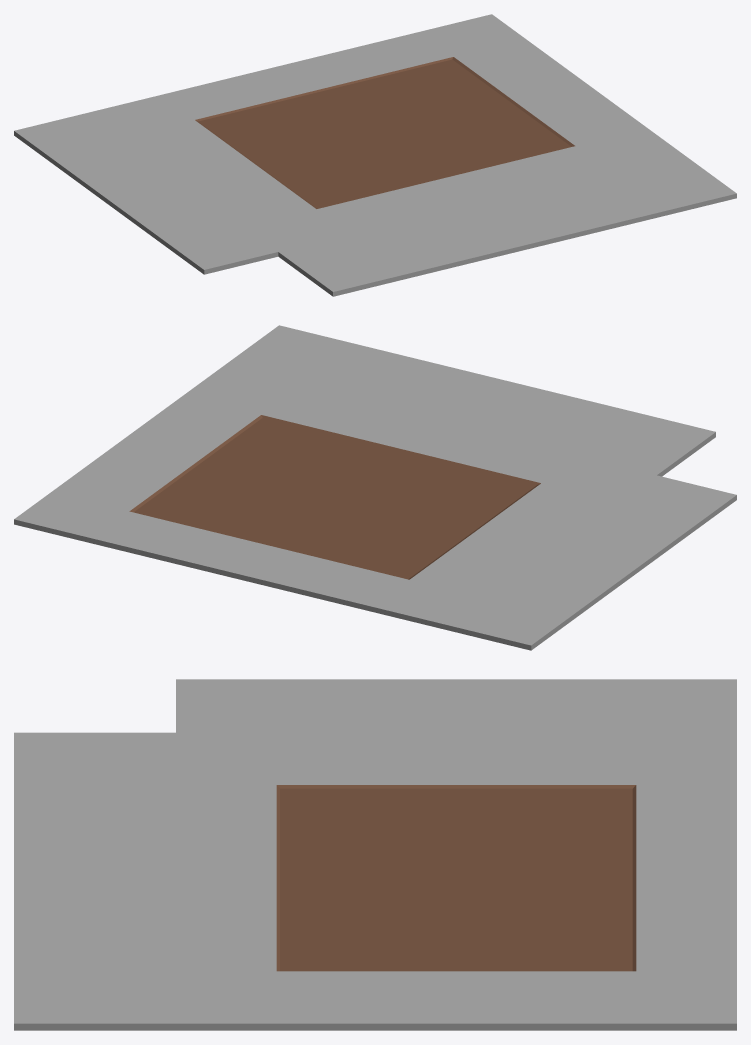
File: FloorBallroomUV.fbx
3 views of the same model, one above another, from view 1: azimuth 30°, elevation 25°; view 2: azimuth 150°, elevation 25°; view 3: azimuth 270°, elevation 25° (orthographic). The views are drawn at different scales.
Visible parts, largest first — view 1: pCube9; view 2: pCube9; view 3: pCube9.
Part boxes in pixels (<box>): pCube9: <box>14,14,736,296</box>; pCube9: <box>14,325,736,650</box>; pCube9: <box>14,679,736,1030</box>.
Bounding box in the file's own units: 32.5 × 0.3097 × 28.86.
